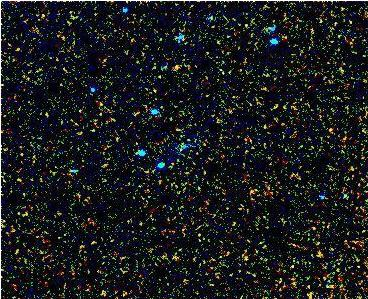star: (162, 47, 192, 77)
